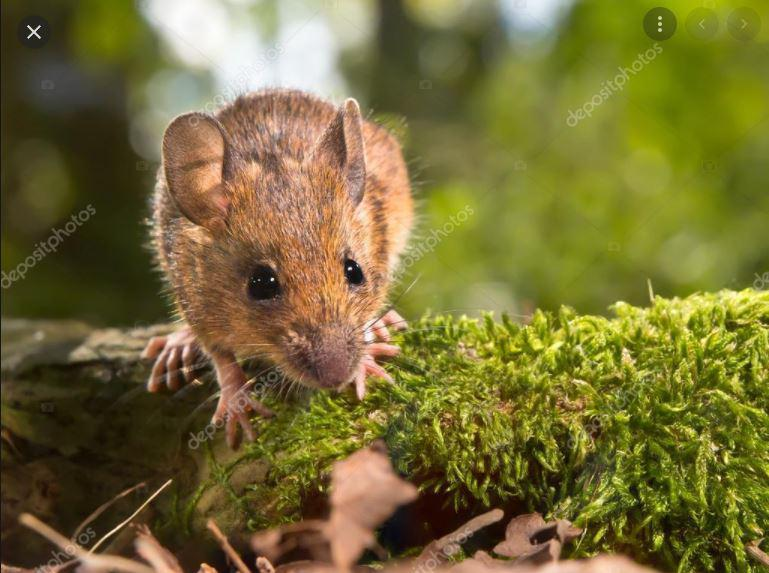rat: (144, 87, 418, 446)
